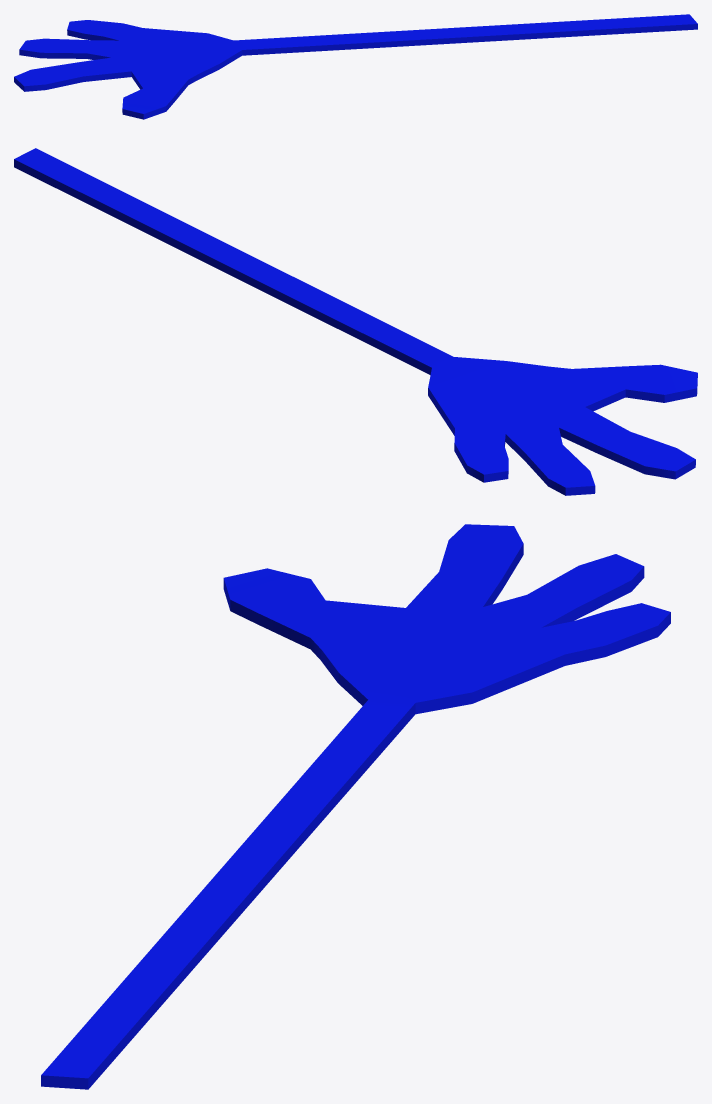
The model's file is StickyHand 1.fbx.
The picture shows the model from 3 angles, top to bottom: view 1: azimuth 30°, elevation 25°; view 2: azimuth 150°, elevation 25°; view 3: azimuth 270°, elevation 25°; orthographic projection. The views are drawn at different scales.
Visible parts, largest first — view 1: StickyHand; view 2: StickyHand; view 3: StickyHand.
Boxes of the visible parts, left/top/right/bottom form: StickyHand: left=14, top=14, right=697, bottom=119; StickyHand: left=14, top=148, right=697, bottom=495; StickyHand: left=41, top=524, right=670, bottom=1089.
Bounding box in the file's own units: 90.97 × 1.91 × 43.45.
